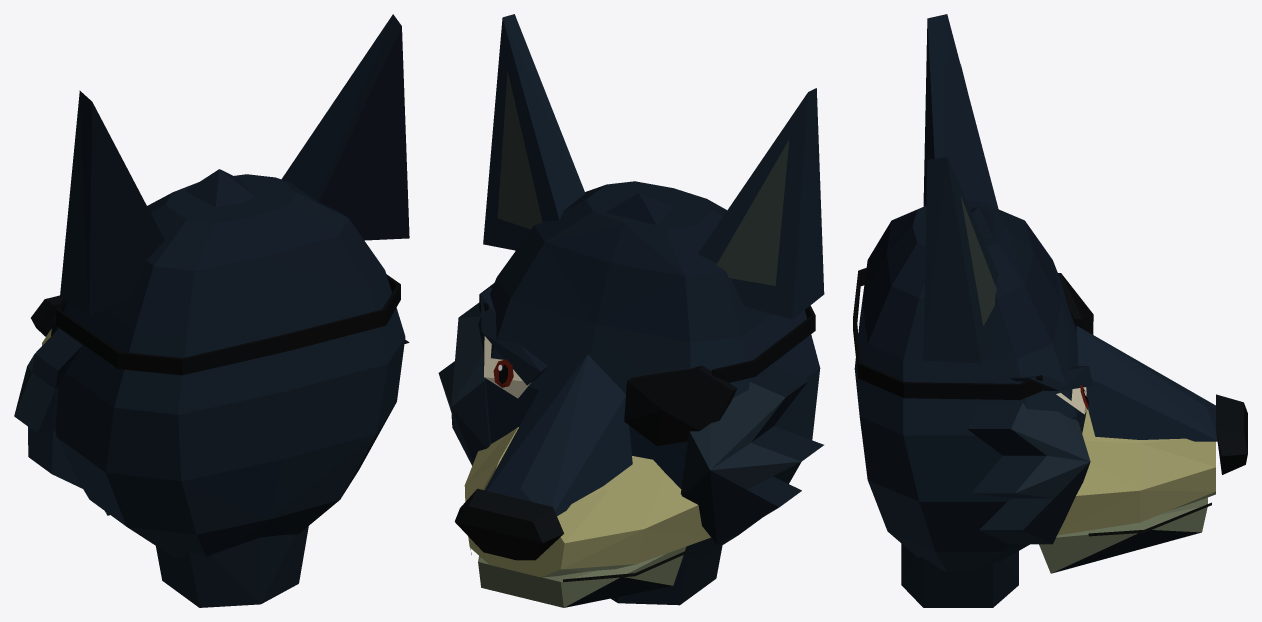
File: head.obj
3 views of the same model, side by side, from view 1: azimuth 30°, elevation 25°; view 2: azimuth 150°, elevation 25°; view 3: azimuth 270°, elevation 25° (orthographic). The views are drawn at different scales.
Parts seen in each view (by area): view 1: Skull, Ear_L, Ear_R, Neck, Eyepatch_strap, Cheek_ruff_R, Crown_tuft, Nose; view 2: Skull, Snout_bridge, Cream_muzzle, Cheek_ruff_R, Ear_R, Ear_L, Black_eyepatch, Lower_jaw, Nose, Ear_inset_R, Cheek_ruff_L, Ear_inset_L (+5 smaller); view 3: Skull, Cheek_ruff_L, Cream_muzzle, Ear_L, Snout_bridge, Ear_R, Lower_jaw, Neck, Eyepatch_strap, Nose, Ear_inset_L, Angled_brow (+1 smaller).
Part boxes in pixels (x1=…): Skull: x1=55, y1=174, x2=405, y2=558; Ear_L: x1=281, y1=14, x2=409, y2=240; Ear_R: x1=60, y1=90, x2=164, y2=316; Neck: x1=156, y1=526, x2=308, y2=607; Eyepatch_strap: x1=56, y1=274, x2=400, y2=375; Cheek_ruff_R: x1=14, y1=328, x2=82, y2=488; Crown_tuft: x1=186, y1=169, x2=255, y2=206; Nose: x1=31, y1=295, x2=62, y2=336; Skull: x1=478, y1=181, x2=820, y2=558; Snout_bridge: x1=485, y1=354, x2=632, y2=516; Cream_muzzle: x1=464, y1=427, x2=710, y2=577; Cheek_ruff_R: x1=680, y1=365, x2=823, y2=544; Ear_R: x1=698, y1=88, x2=824, y2=319; Ear_L: x1=483, y1=14, x2=585, y2=250; Black_eyepatch: x1=624, y1=365, x2=737, y2=445; Lower_jaw: x1=478, y1=546, x2=686, y2=607; Nose: x1=454, y1=488, x2=563, y2=560; Ear_inset_R: x1=716, y1=140, x2=789, y2=285; Cheek_ruff_L: x1=438, y1=302, x2=490, y2=465; Ear_inset_L: x1=497, y1=71, x2=542, y2=229; Skull: x1=854, y1=201, x2=1086, y2=572; Cheek_ruff_L: x1=967, y1=402, x2=1090, y2=544; Cream_muzzle: x1=1057, y1=409, x2=1215, y2=535; Ear_L: x1=923, y1=157, x2=998, y2=363; Snout_bridge: x1=1076, y1=326, x2=1217, y2=441; Ear_R: x1=923, y1=14, x2=998, y2=209; Lower_jaw: x1=1039, y1=497, x2=1207, y2=573; Neck: x1=901, y1=543, x2=1018, y2=607; Eyepatch_strap: x1=853, y1=268, x2=1042, y2=399; Nose: x1=1216, y1=394, x2=1247, y2=474; Ear_inset_L: x1=960, y1=196, x2=996, y2=325; Angled_brow: x1=1009, y1=366, x2=1093, y2=390.
Bounding box in the file's own units: 0.2188 × 0.3 × 0.2148.
